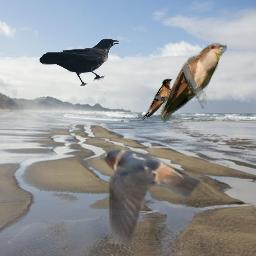Crow: (39, 38, 121, 86)
Cuckoo: (158, 43, 227, 124)
Swallow: (100, 145, 204, 244), (140, 78, 173, 121)
